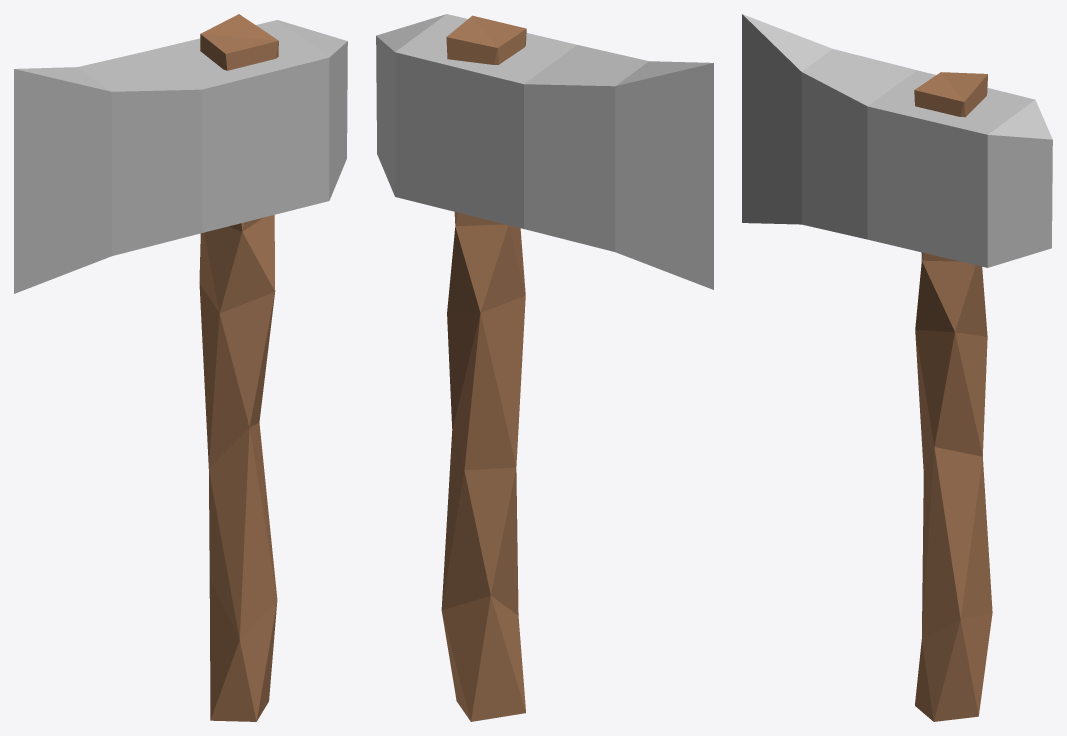
The model's file is Weapon_Axe.fbx.
3 views of the same model, side by side, from view 1: azimuth 30°, elevation 25°; view 2: azimuth 150°, elevation 25°; view 3: azimuth 330°, elevation 25° (orthographic). The views are drawn at different scales.
Parts seen in each view (by area): view 1: pCylinder2; view 2: pCylinder2; view 3: pCylinder2.
Part boxes in pixels (left/top/right/bottom): pCylinder2: left=14, top=14, right=347, bottom=721; pCylinder2: left=376, top=14, right=713, bottom=721; pCylinder2: left=742, top=14, right=1052, bottom=721.
Size of the model in its own units: 8.4 by 16.68 by 2.32.
